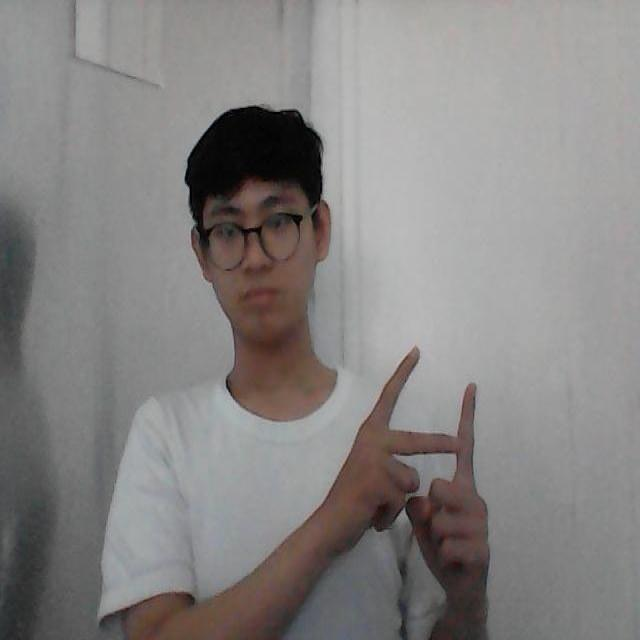H: (357, 344, 499, 552)
